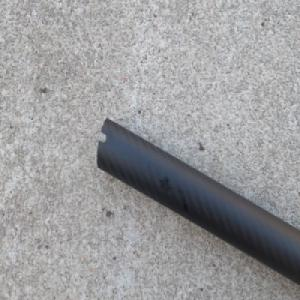LuggagePart: (95, 116, 300, 300)
